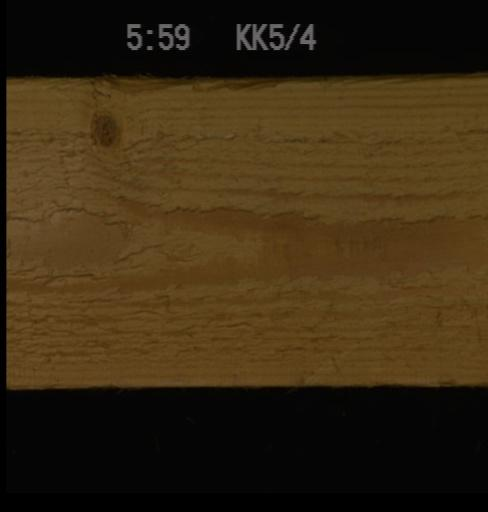sound_knot: (82, 105, 127, 151)
wave: (85, 75, 349, 97)
